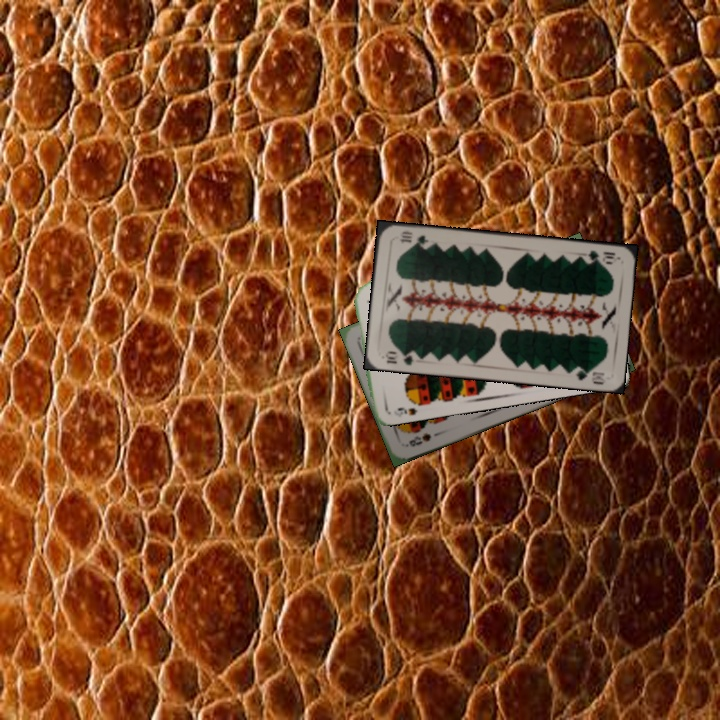G10: (381, 347, 421, 368), (579, 246, 617, 266)
S8: (401, 428, 434, 450)
S9: (390, 396, 427, 419)
